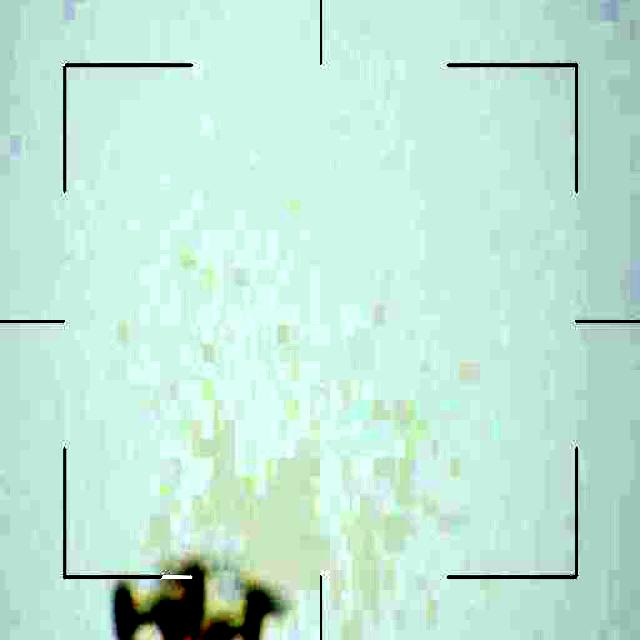bird: (105, 561, 295, 640)
